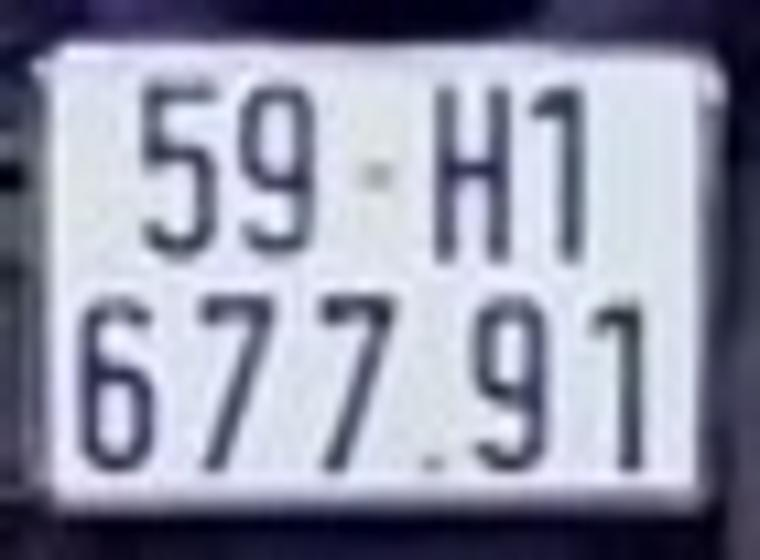-: (355, 164, 392, 186)
.: (421, 457, 445, 472)
1: (588, 297, 643, 472), (535, 85, 587, 261)
5: (141, 79, 215, 252)
6: (79, 295, 156, 468)
7: (197, 294, 274, 473), (315, 294, 389, 473)
9: (237, 80, 315, 257), (475, 294, 551, 472)
H: (433, 82, 511, 265)
